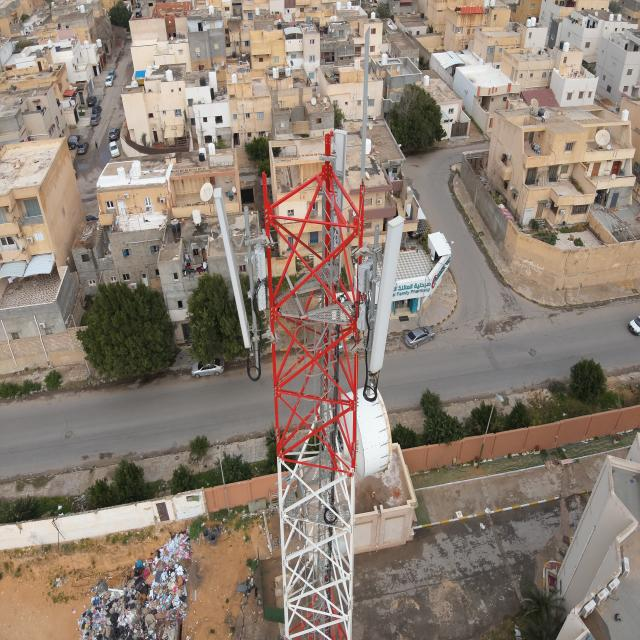Ground Based: (212, 9, 406, 640)
